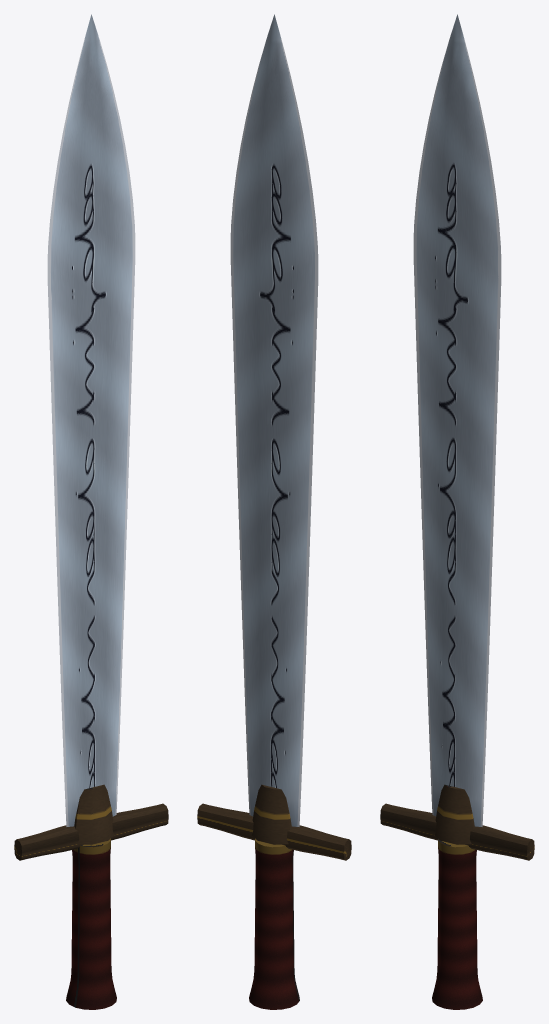
The model's file is SwordOfTruth.fbx.
3 views of the same model, side by side, from view 1: azimuth 30°, elevation 25°; view 2: azimuth 150°, elevation 25°; view 3: azimuth 330°, elevation 25° (orthographic).
Parts seen in each view (by area): view 1: SwordOfTruth; view 2: SwordOfTruth; view 3: SwordOfTruth.
Boxes of the visible parts, x1=… form: SwordOfTruth: x1=14, y1=14, x2=168, y2=1009; SwordOfTruth: x1=197, y1=14, x2=351, y2=1009; SwordOfTruth: x1=380, y1=14, x2=534, y2=1009.
Bounding box in the file's own units: 0.136 × 0.873 × 0.0414.
1 material, 1 textured.
